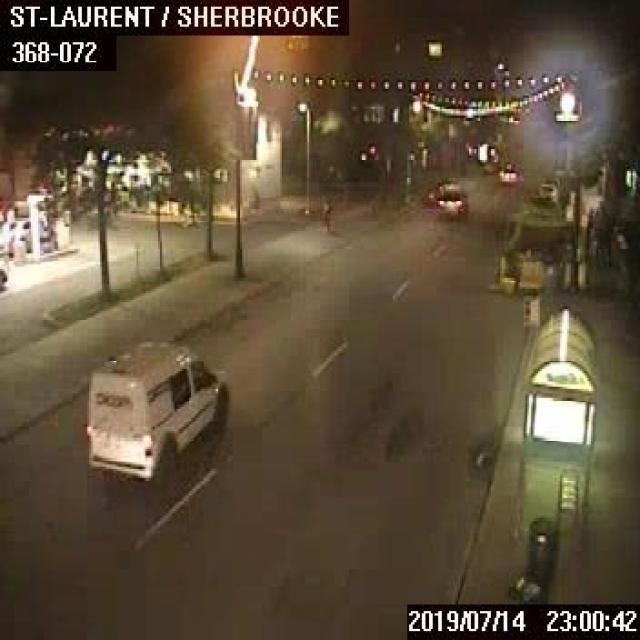vehicle: (82, 336, 229, 480), (0, 216, 49, 251), (434, 183, 465, 216), (420, 177, 451, 204), (496, 160, 521, 183)
